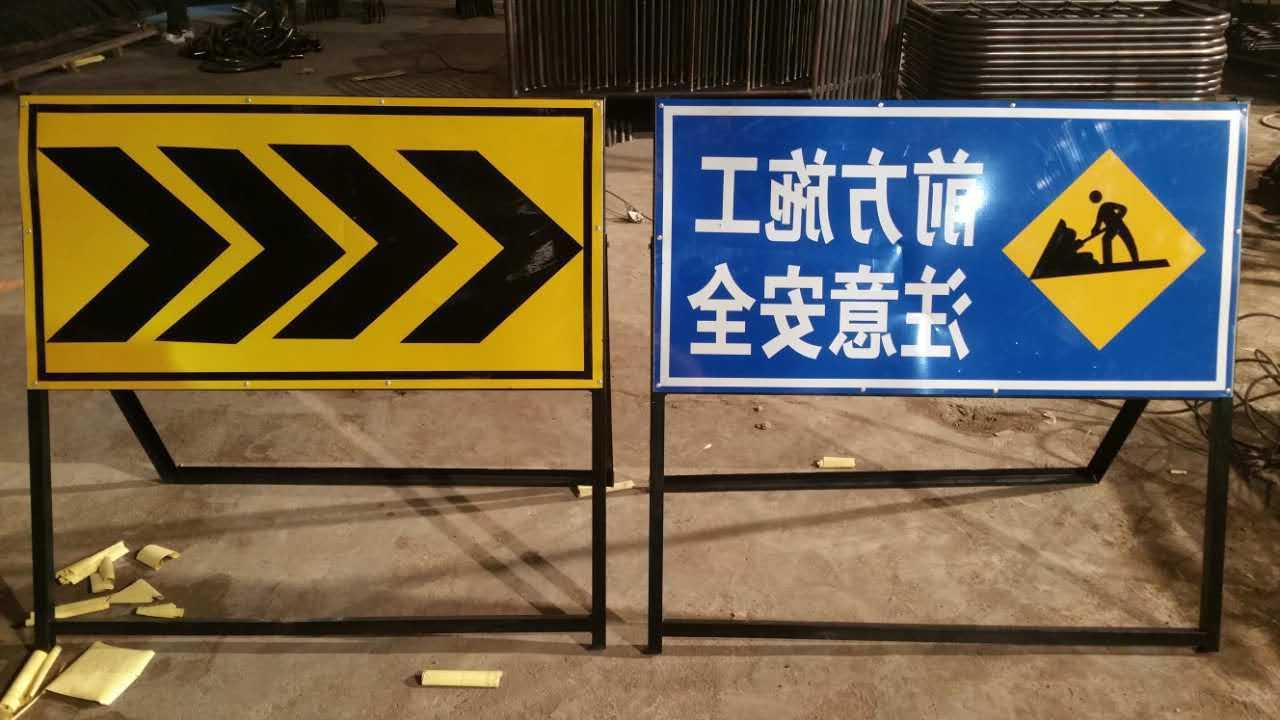sign: (659, 94, 1235, 388), (22, 99, 598, 388)
